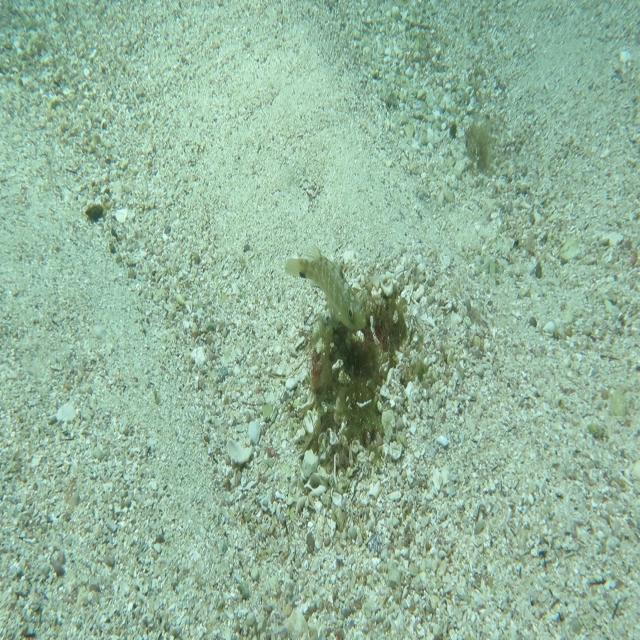FAN: (283, 241, 368, 332)
core_nest: (354, 303, 394, 342)
nest: (288, 260, 417, 473)
vegetation: (462, 110, 494, 179), (84, 200, 105, 224)
